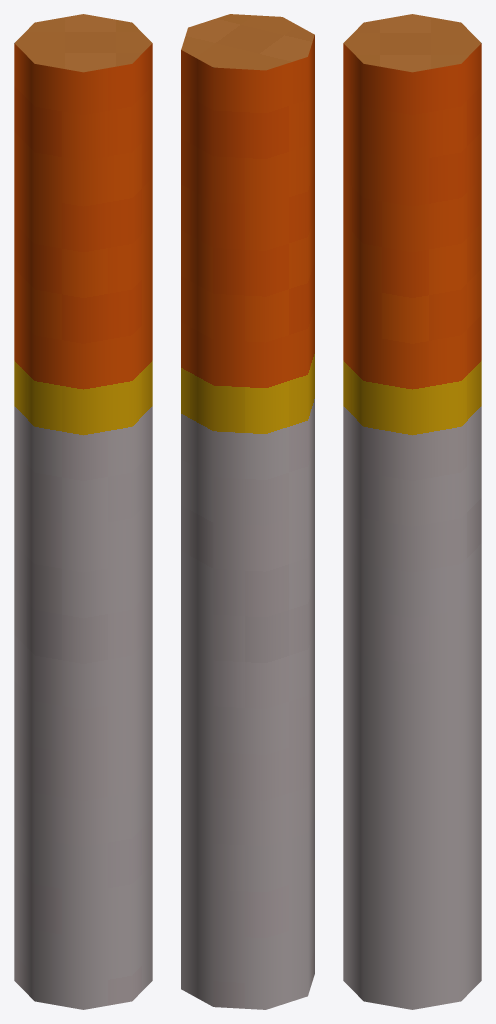
File: ciggarete.obj
3 views of the same model, side by side, from view 1: azimuth 90°, elevation 25°; view 2: azimuth 150°, elevation 25°; view 3: azimuth 270°, elevation 25° (orthographic).
Parts seen in each view (by area): view 1: ciggarete; view 2: ciggarete; view 3: ciggarete.
Part boxes in pixels (box(x1,y1,x2,y2)): ciggarete: box(14, 14, 152, 1009); ciggarete: box(181, 14, 314, 1009); ciggarete: box(343, 14, 481, 1009).
Size of the model in its own units: 0.0327 by 0.245 by 0.0327.
